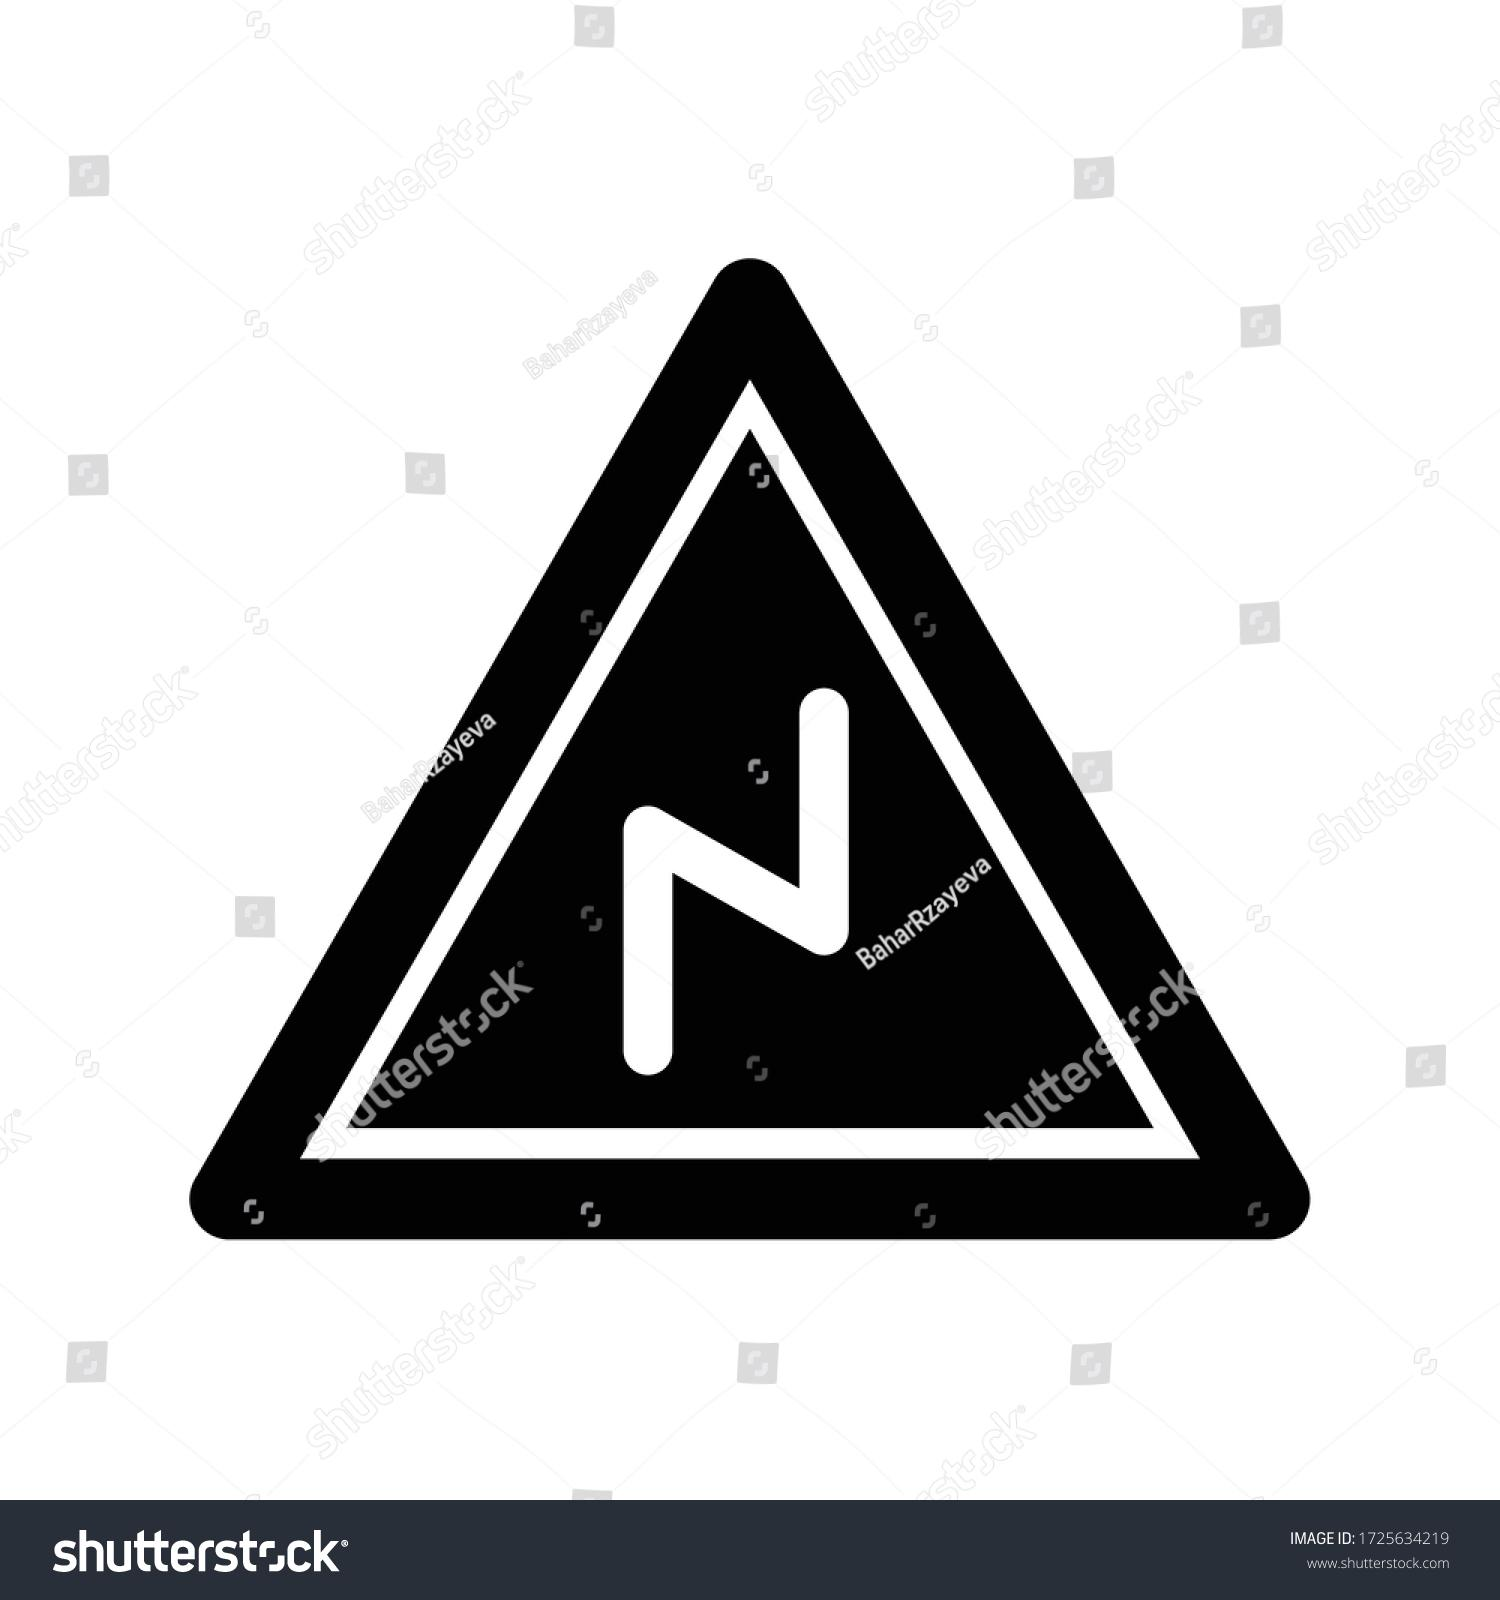Right Reverse Bend: (117, 244, 1328, 1250)
